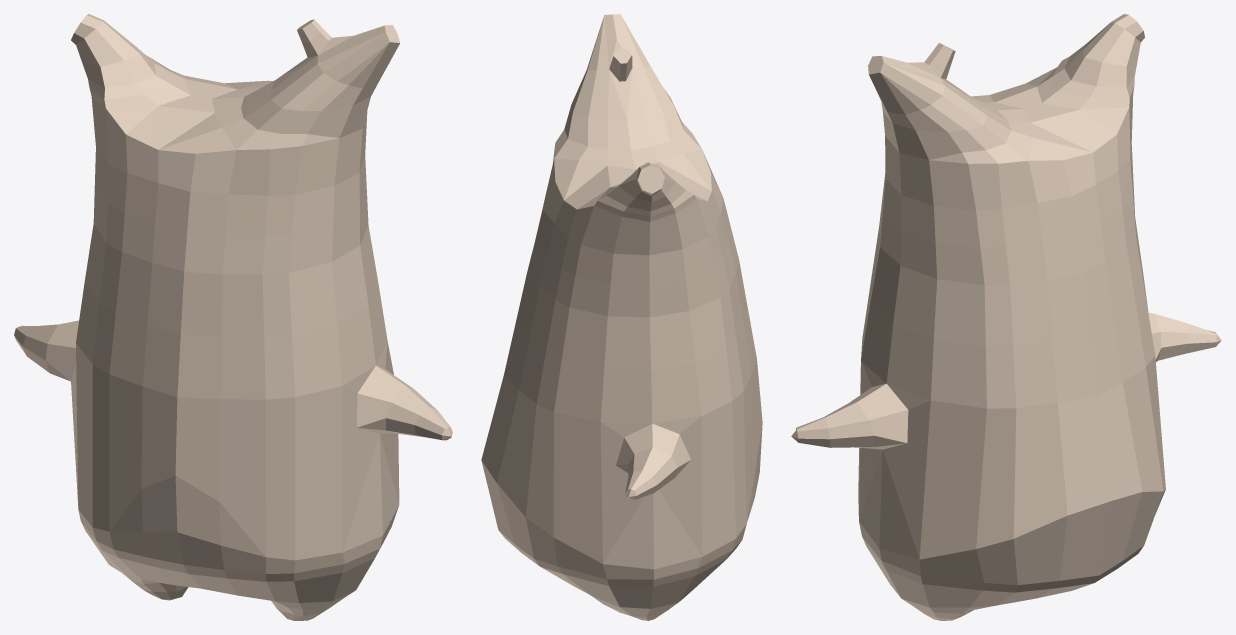
Rendered from frame_0079.obj.
The picture shows the model from 3 angles, left to right: view 1: azimuth 30°, elevation 25°; view 2: azimuth 150°, elevation 25°; view 3: azimuth 270°, elevation 25°; orthographic projection. The views are drawn at different scales.
Parts seen in each view (by area): view 1: korok; view 2: korok; view 3: korok.
Part boxes in pixels (x1,y1,x2,y2): korok: (14,14,452,620); korok: (481,14,762,620); korok: (791,14,1221,620).
Bounding box in the file's own units: 1.03 × 2.16 × 1.43.
